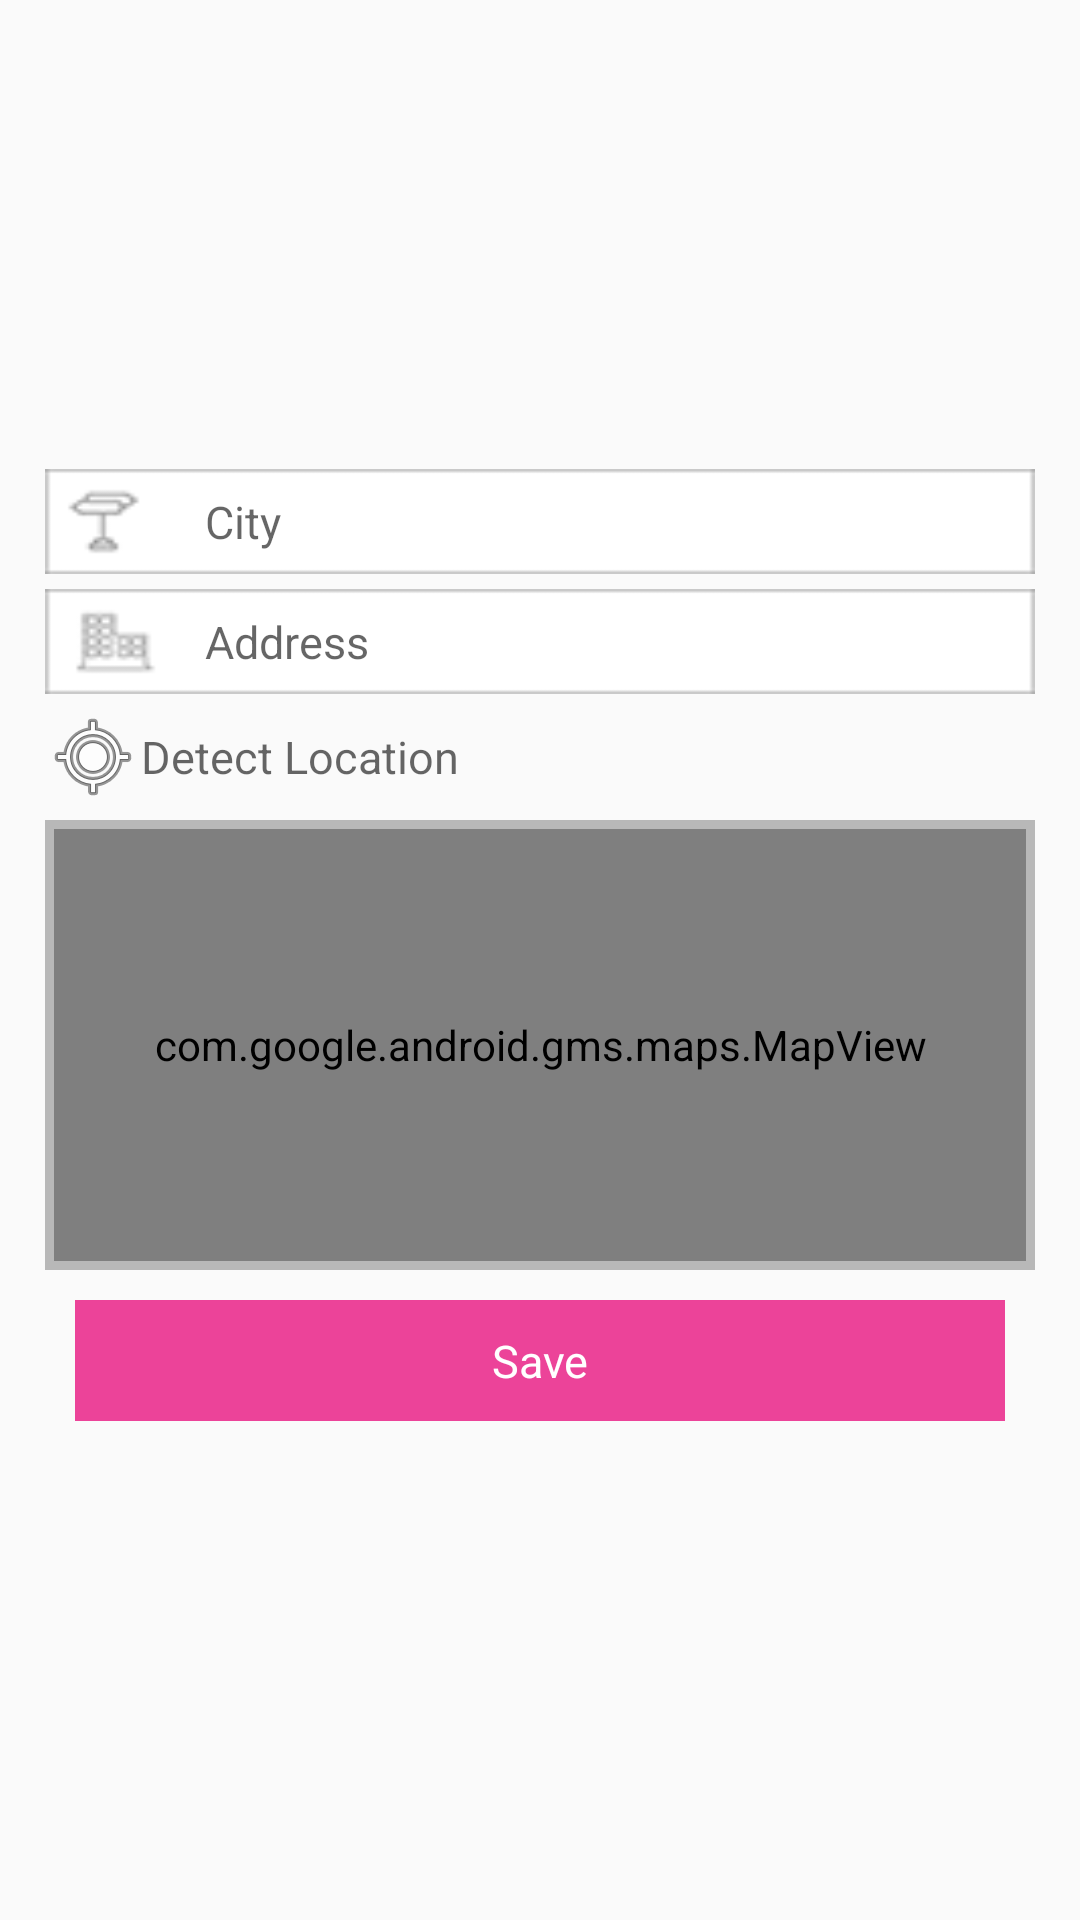

Where icons sit on this 1080x1920 app screen, as (x1, y1, x2, y2):
mylocation: (55, 719, 131, 795)
